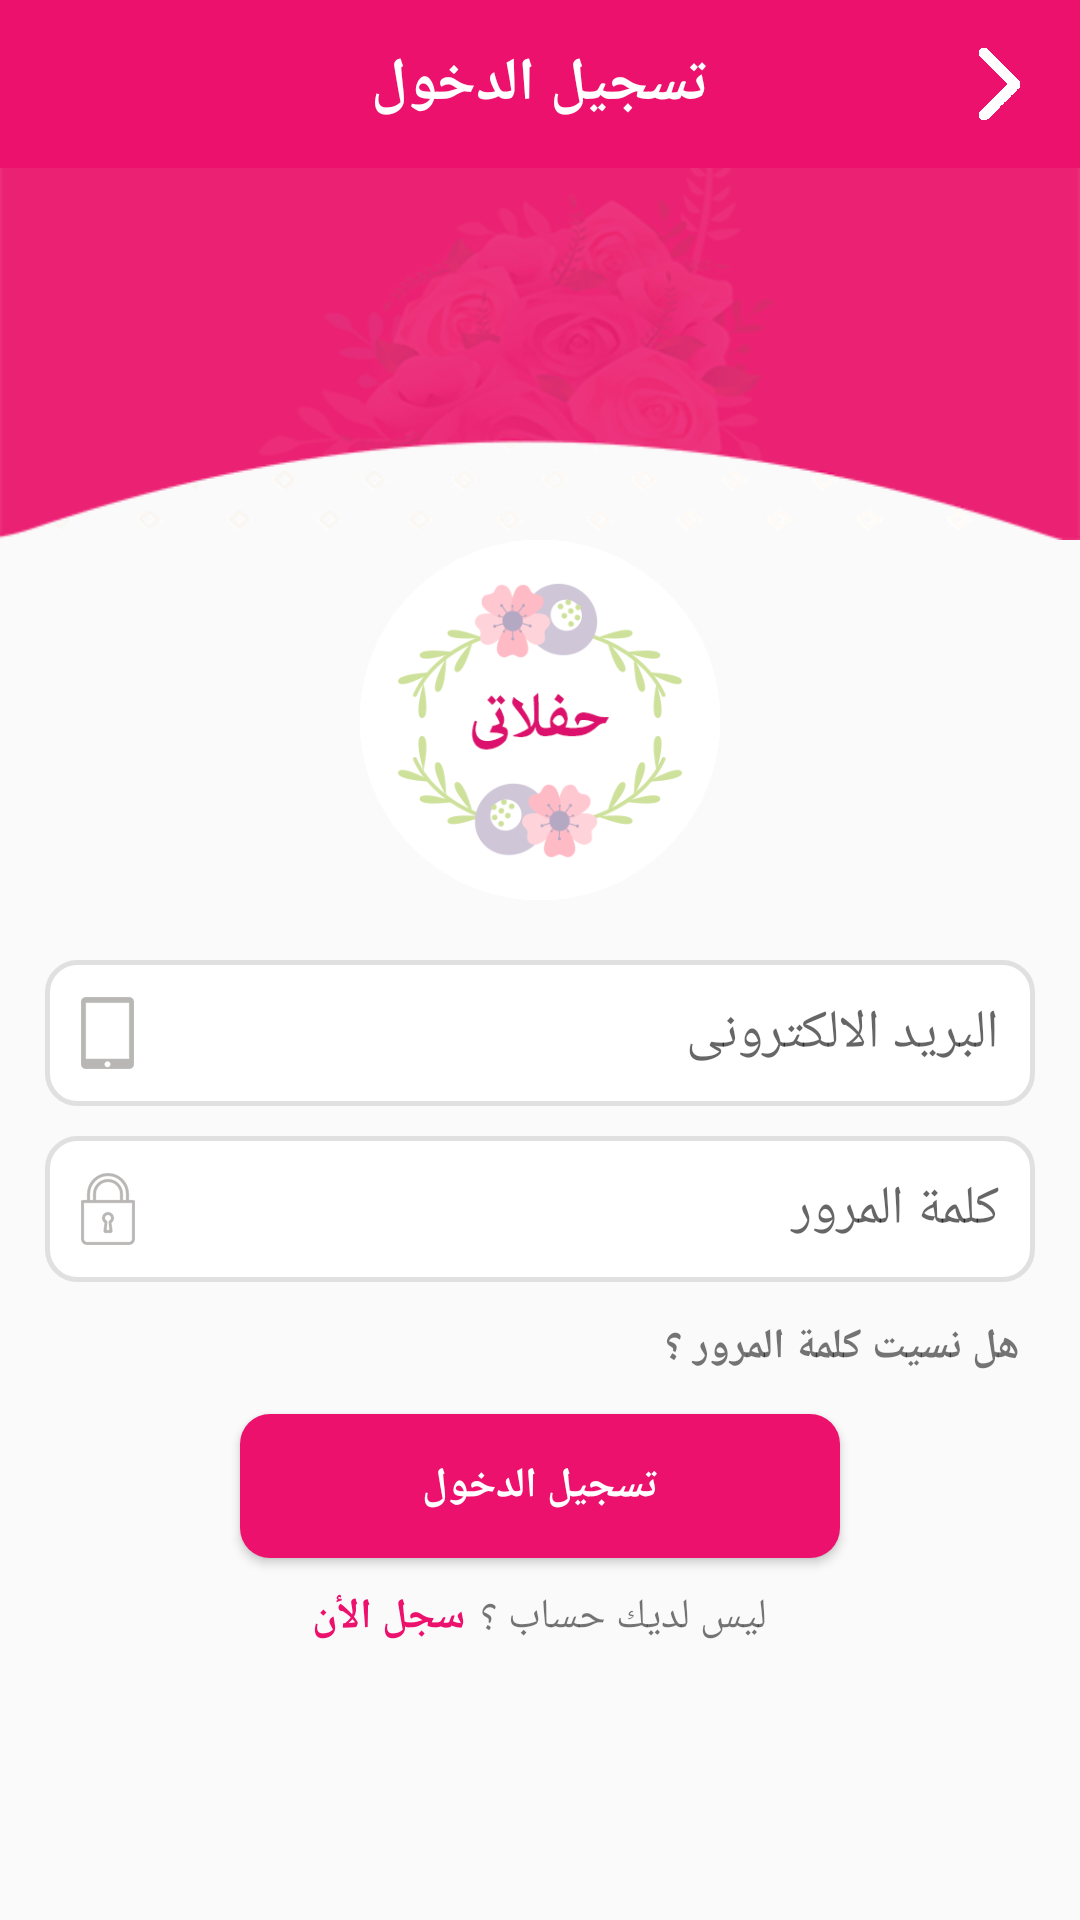

Locate icon controls on the screen. Image size 1080 × 1920, boxes as [x1=x1, y1=y1, x2=x2, y2=y2].
arwo: [x1=979, y1=48, x2=1020, y2=120]
